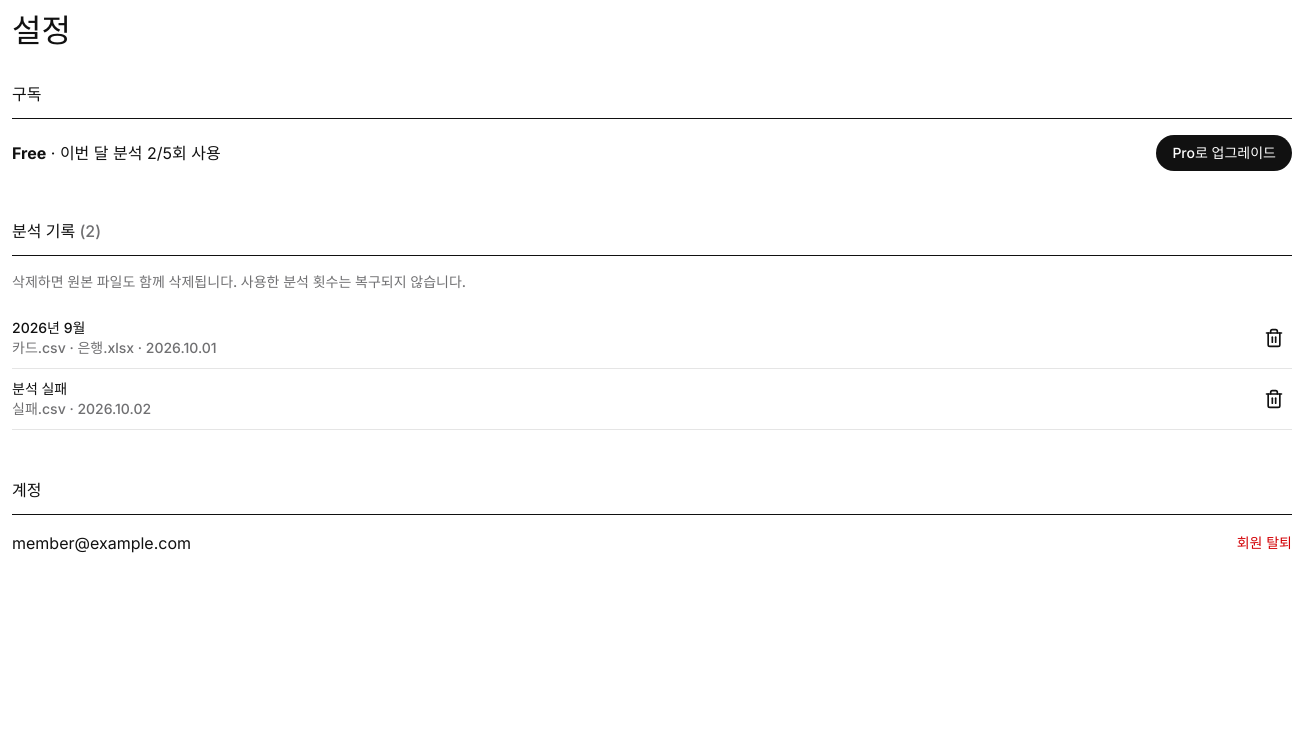
Test: AnalysisHistory › 204는 해당 행만 제거하고 Toast·개수 갱신 후 사용량을 유지한다
Click the button named "2026년 9월 삭제 (카드.csv, 은행.xlsx)" at (1274, 338), box [1256,320,1292,356]
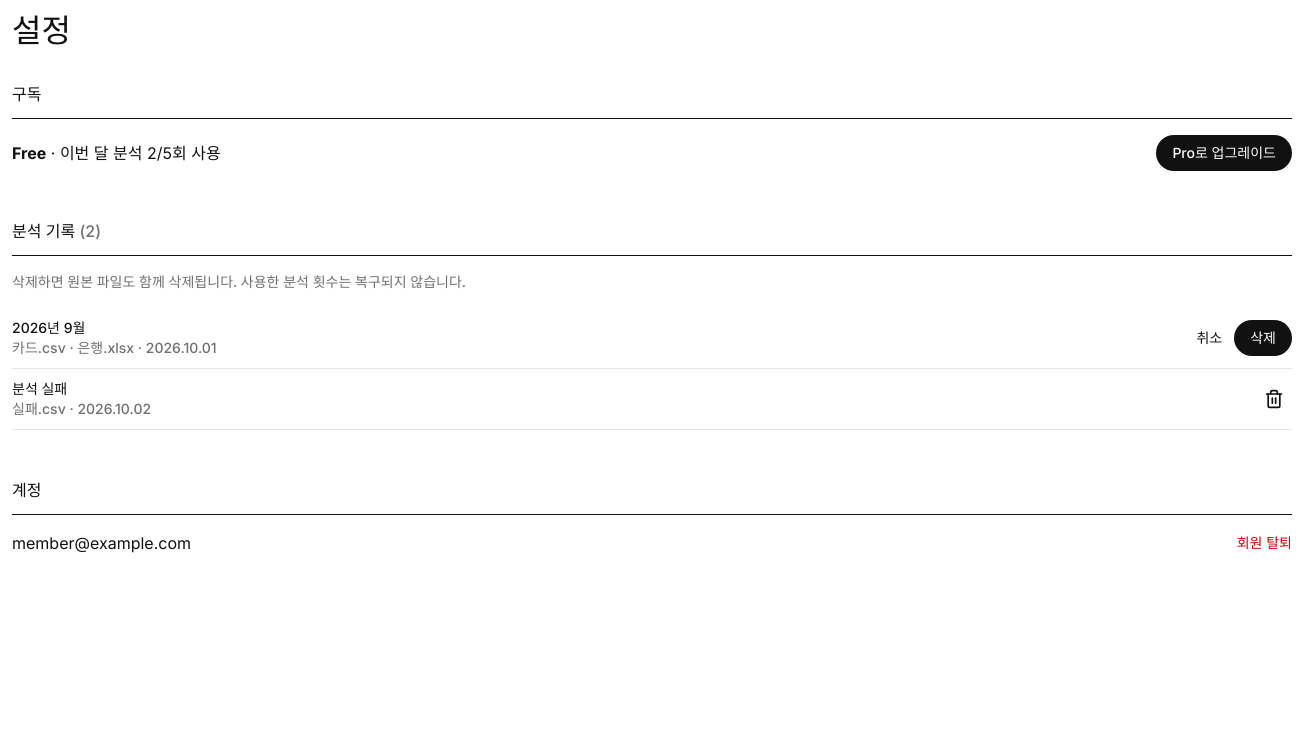
Click the button "삭제" at (1263, 338), box [1234,320,1292,356]
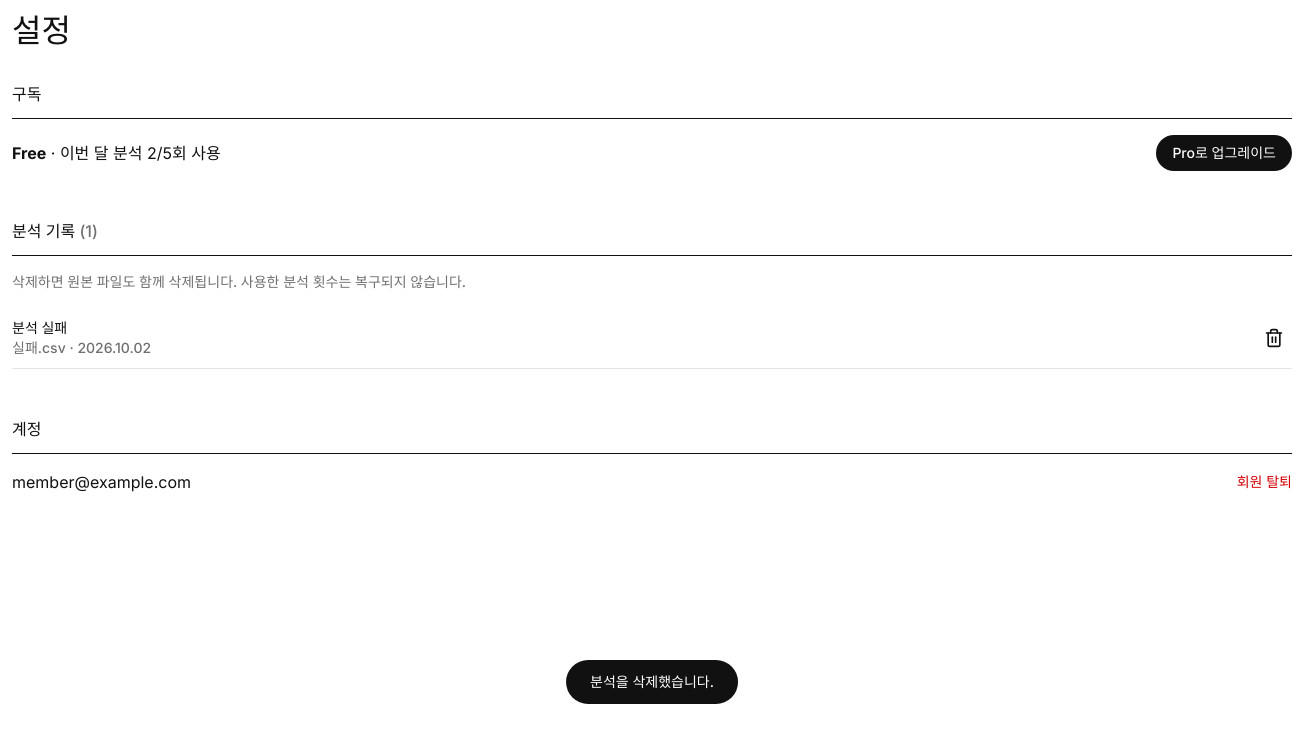
Expected: the text "2026년 9월" is gone
Expected: the heading "분석 기록 (1)" is shown, [12,219,98,243]
Expected: the message reads "분석을 삭제했습니다.", [590,673,714,690]
